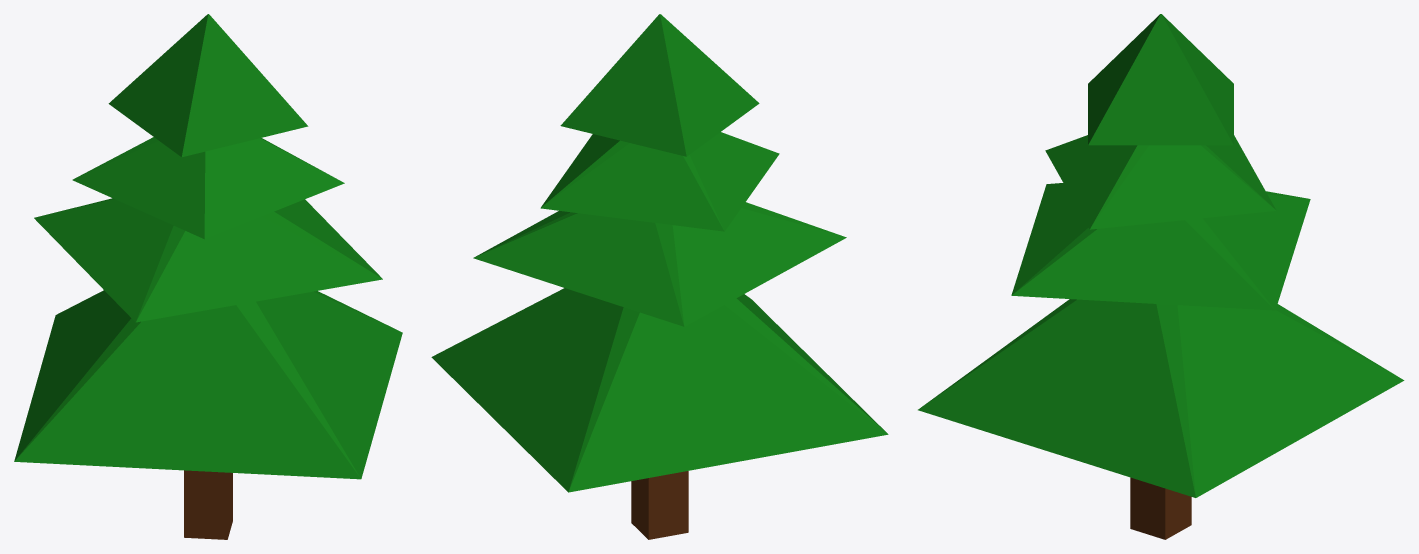
Rendered from baum.dae.
3 views of the same model, side by side, from view 1: azimuth 30°, elevation 25°; view 2: azimuth 150°, elevation 25°; view 3: azimuth 270°, elevation 25° (orthographic).
Visible parts, largest first — view 1: tree; view 2: tree; view 3: tree.
Boxes of the visible parts, left/top/right/bottom form: tree: left=14, top=14, right=402, bottom=539; tree: left=431, top=14, right=888, bottom=539; tree: left=918, top=14, right=1404, bottom=539.
Bounding box in the file's own units: 1.01 × 1.01 × 1.18.
